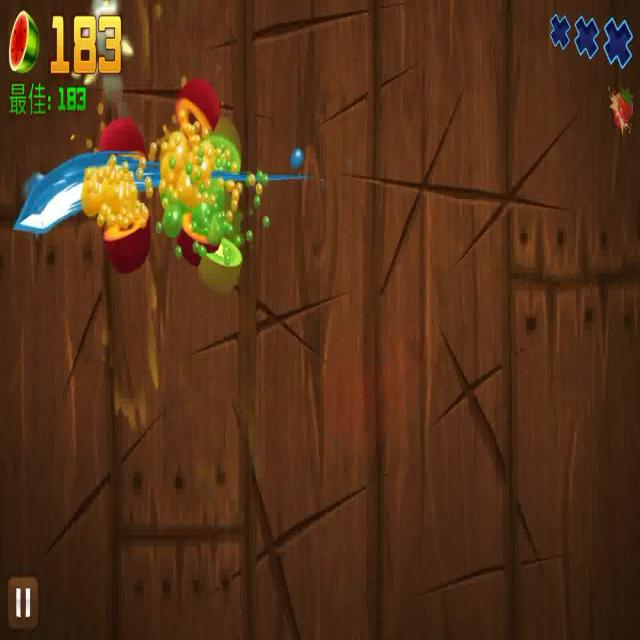fruit: (94, 204, 155, 265), (164, 69, 215, 139), (93, 115, 149, 172), (175, 208, 222, 266), (199, 241, 245, 294), (212, 120, 246, 177)
